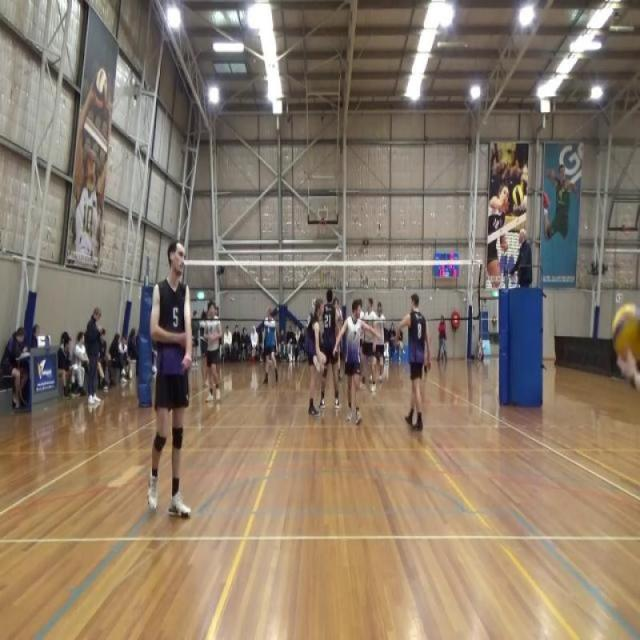volleyball: (609, 300, 640, 371), (94, 65, 108, 112), (512, 184, 525, 207)
